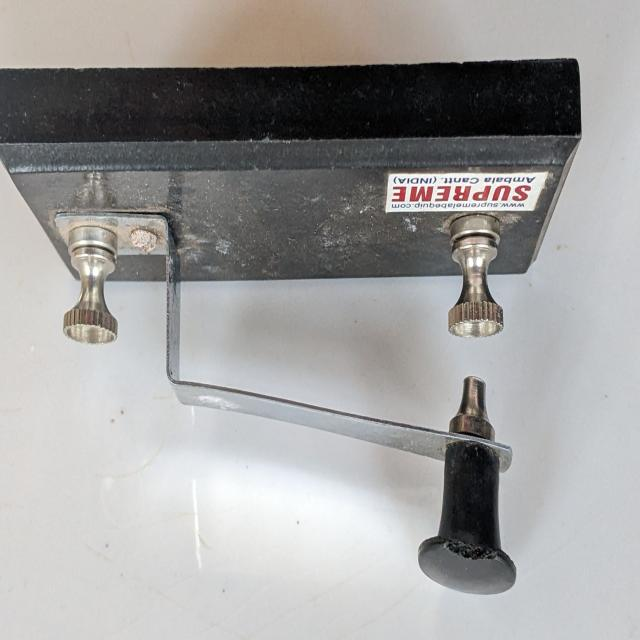Press Key: (9, 55, 587, 606)
